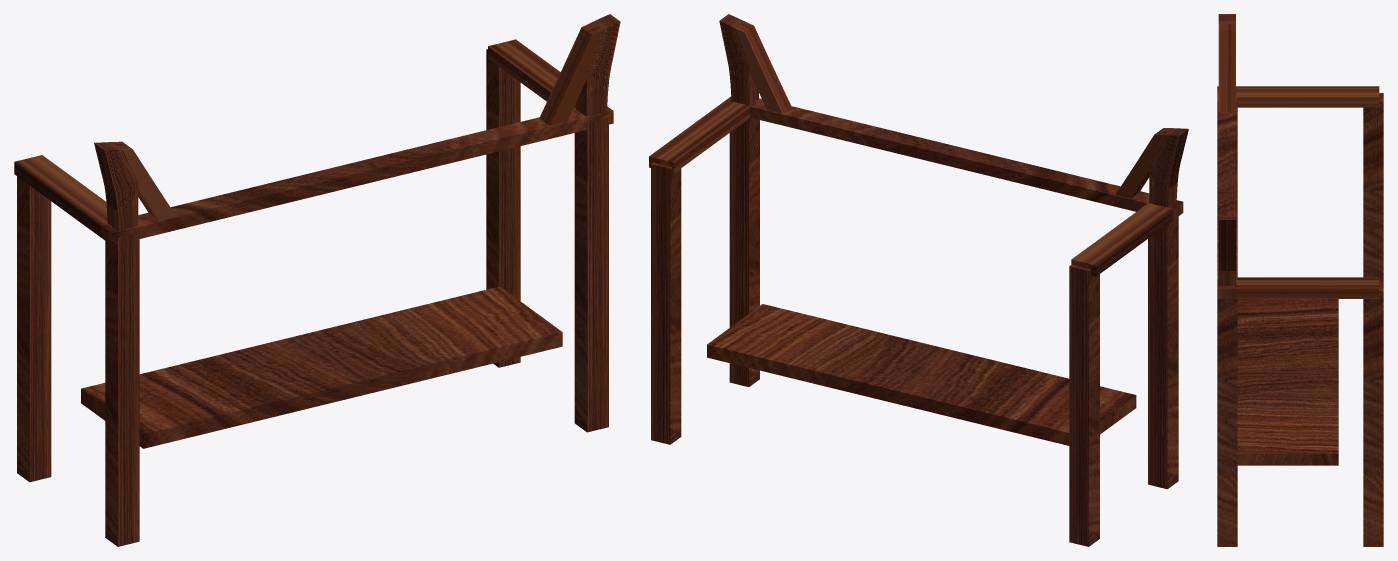
The model's file is stall_mid.obj.
The picture shows the model from 3 angles, left to right: view 1: azimuth 30°, elevation 25°; view 2: azimuth 150°, elevation 25°; view 3: azimuth 270°, elevation 25°; orthographic projection. The views are drawn at different scales.
Size of the model in its own units: 96.23 by 71.58 by 32.54.
